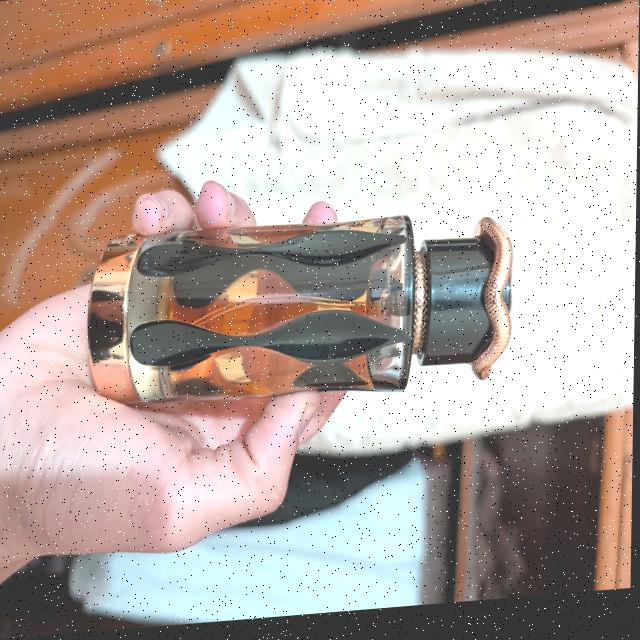Teriaq-Intense: (85, 205, 517, 422)
